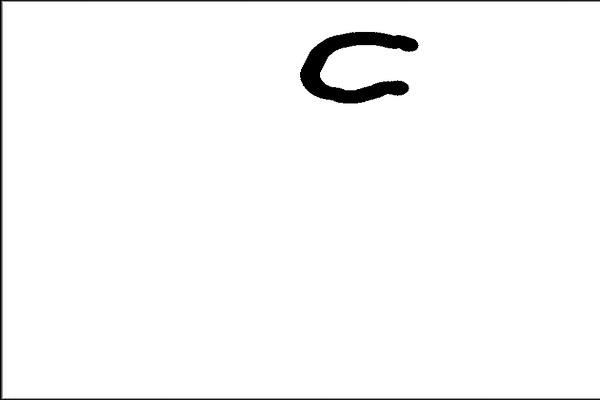C: (294, 25, 422, 108)
